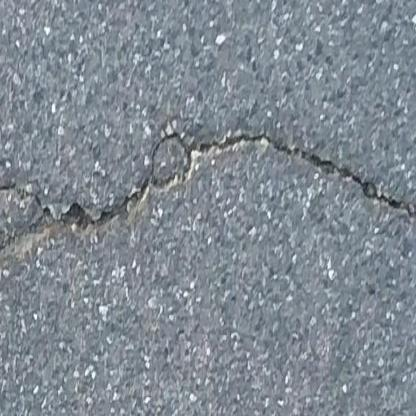Cracks: (0, 130, 416, 263)
